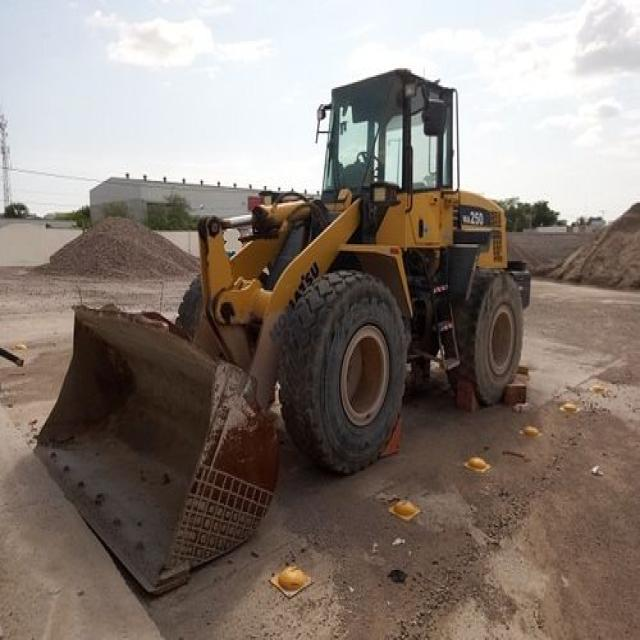buldozerpayloadergrader: (33, 65, 531, 584)
